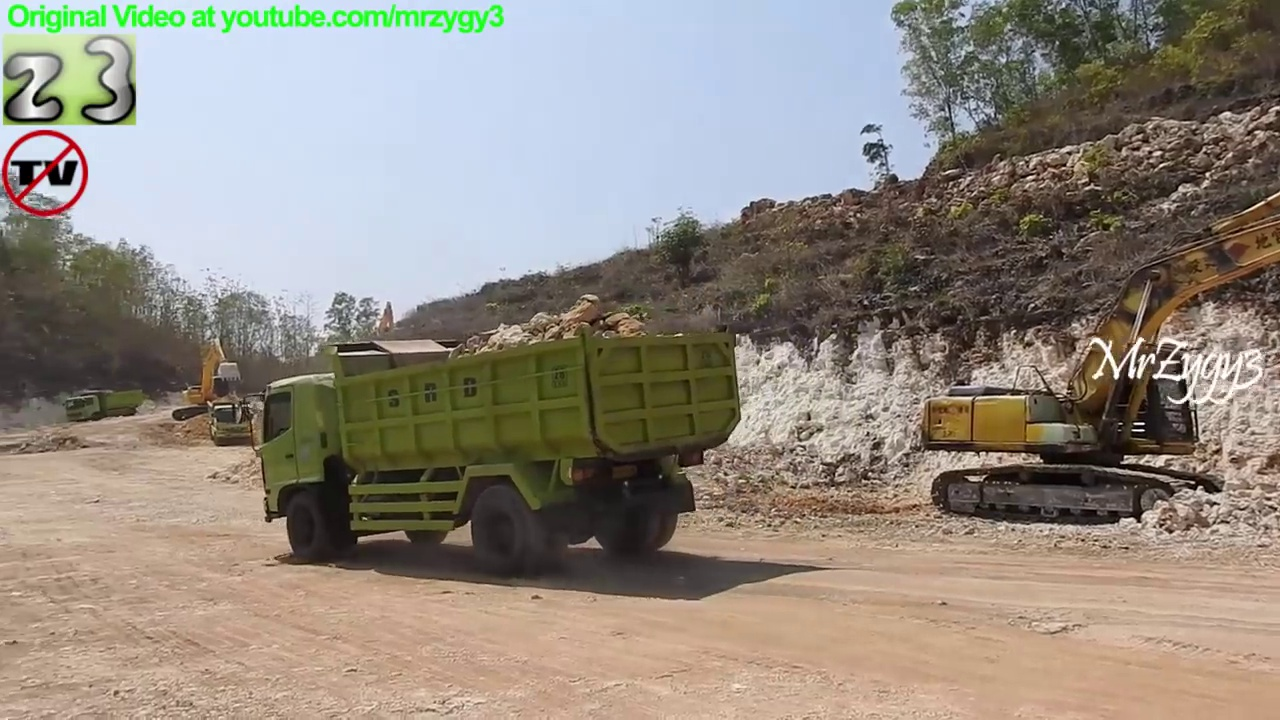excavator: (916, 188, 1280, 531), (168, 336, 244, 424), (367, 298, 402, 358)
truck: (229, 320, 747, 578), (60, 386, 147, 426), (207, 395, 258, 450)
